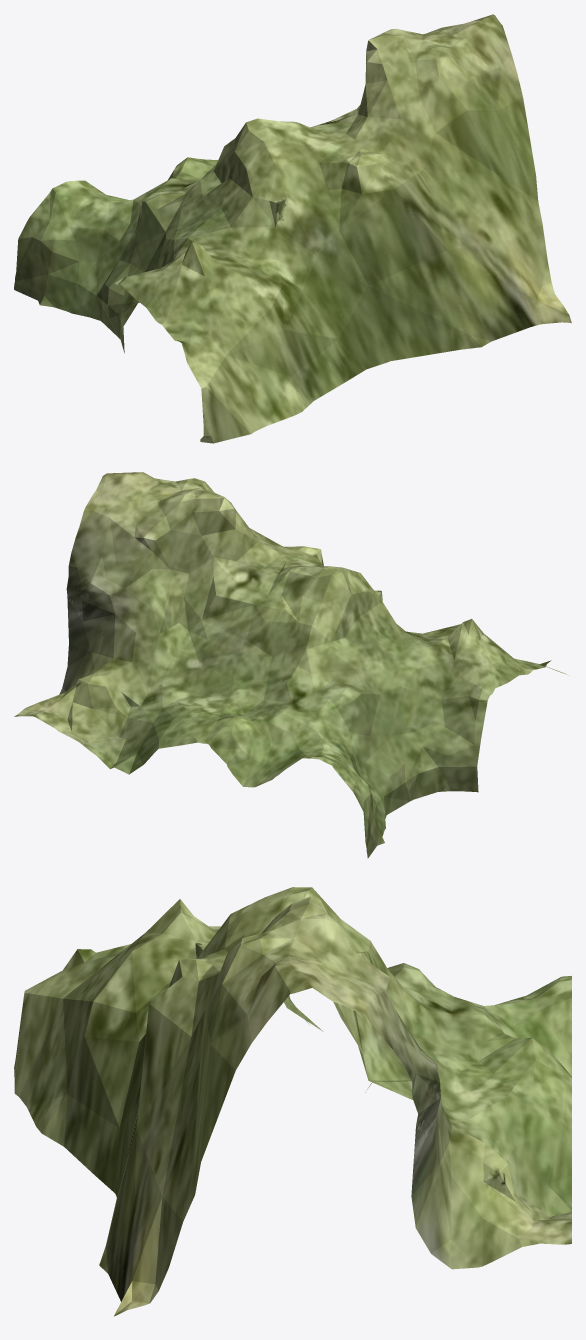
3 renders of one model, top to bottom at view 1: azimuth 30°, elevation 25°; view 2: azimuth 150°, elevation 25°; view 3: azimuth 270°, elevation 25°, orthographic. The views are drawn at different scales.
Bounding box in the file's own units: 2.95 × 1.83 × 2.65.
Materials: 3 (3 with a texture image).
